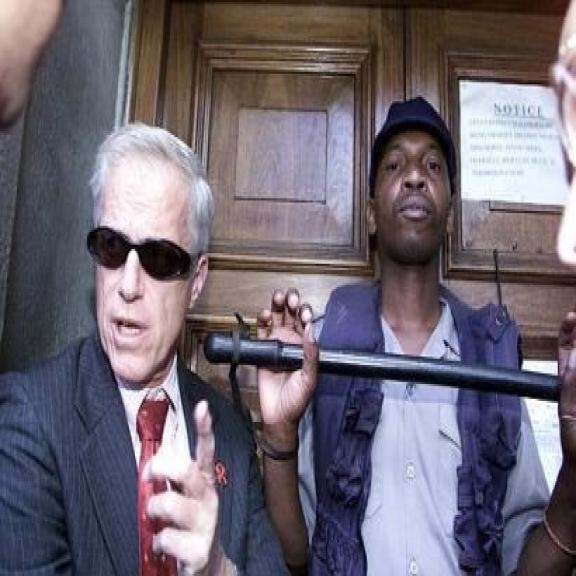face: (91, 134, 211, 385), (364, 94, 457, 273)
